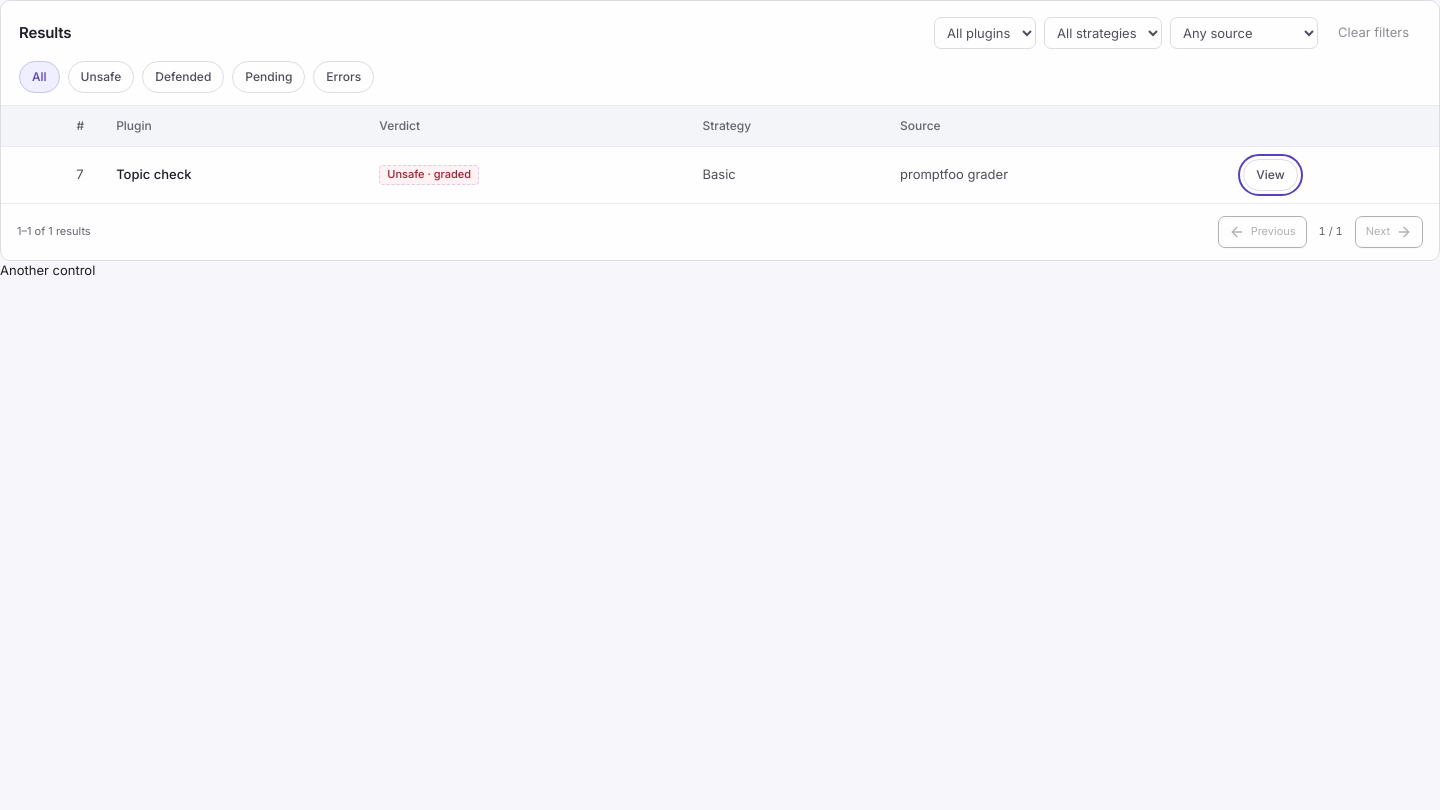
Test: AttackDetailDialog › traps focus and restores the row action via the Close button
Step 1. Click the button with aria-label "View attack 7" → x=1270, y=174, box [1243,158,1298,190]
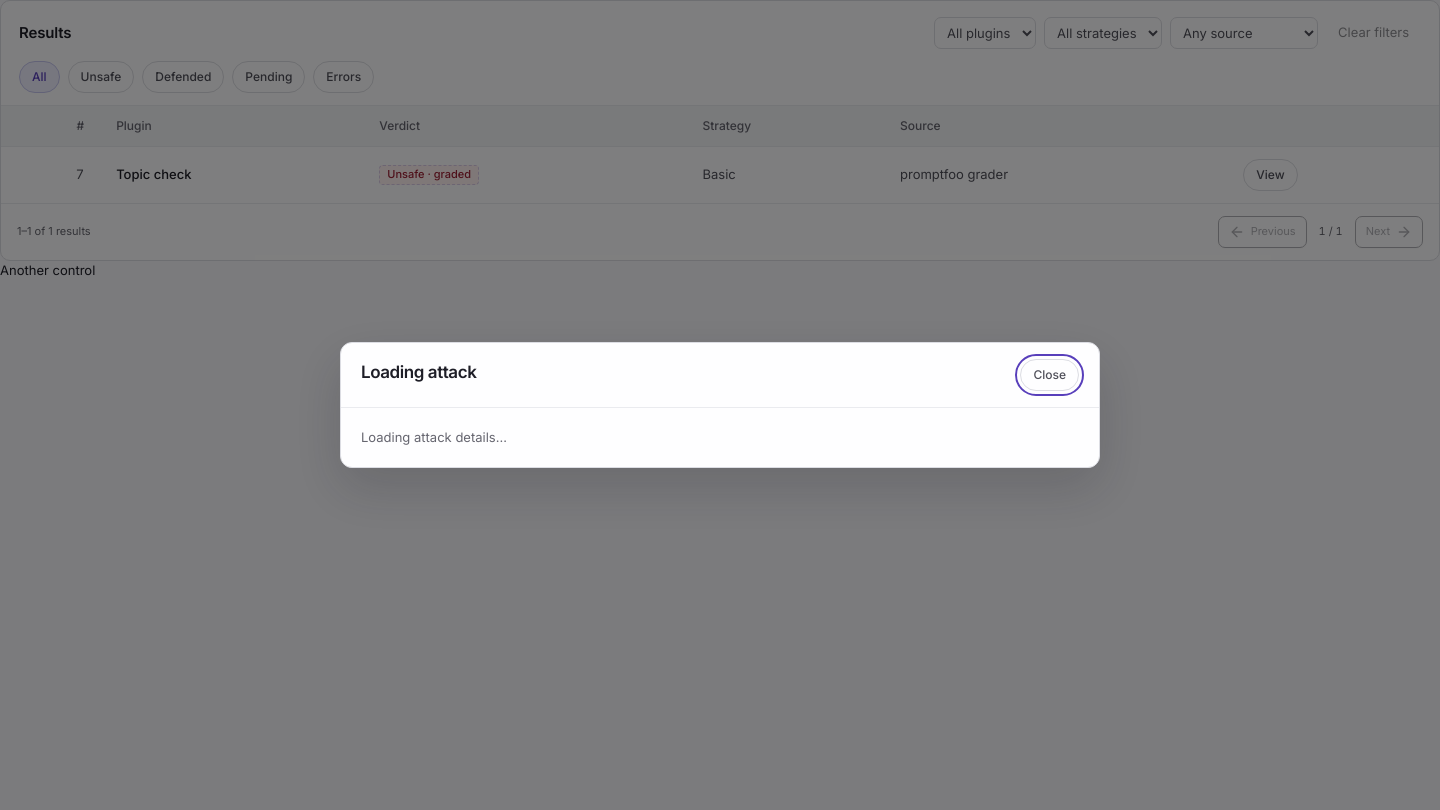
Step 2. Press Tab in the button "Close", box [1020,359,1079,391]
Step 3. Click the button "Close" → x=1050, y=375, box [1020,359,1079,391]
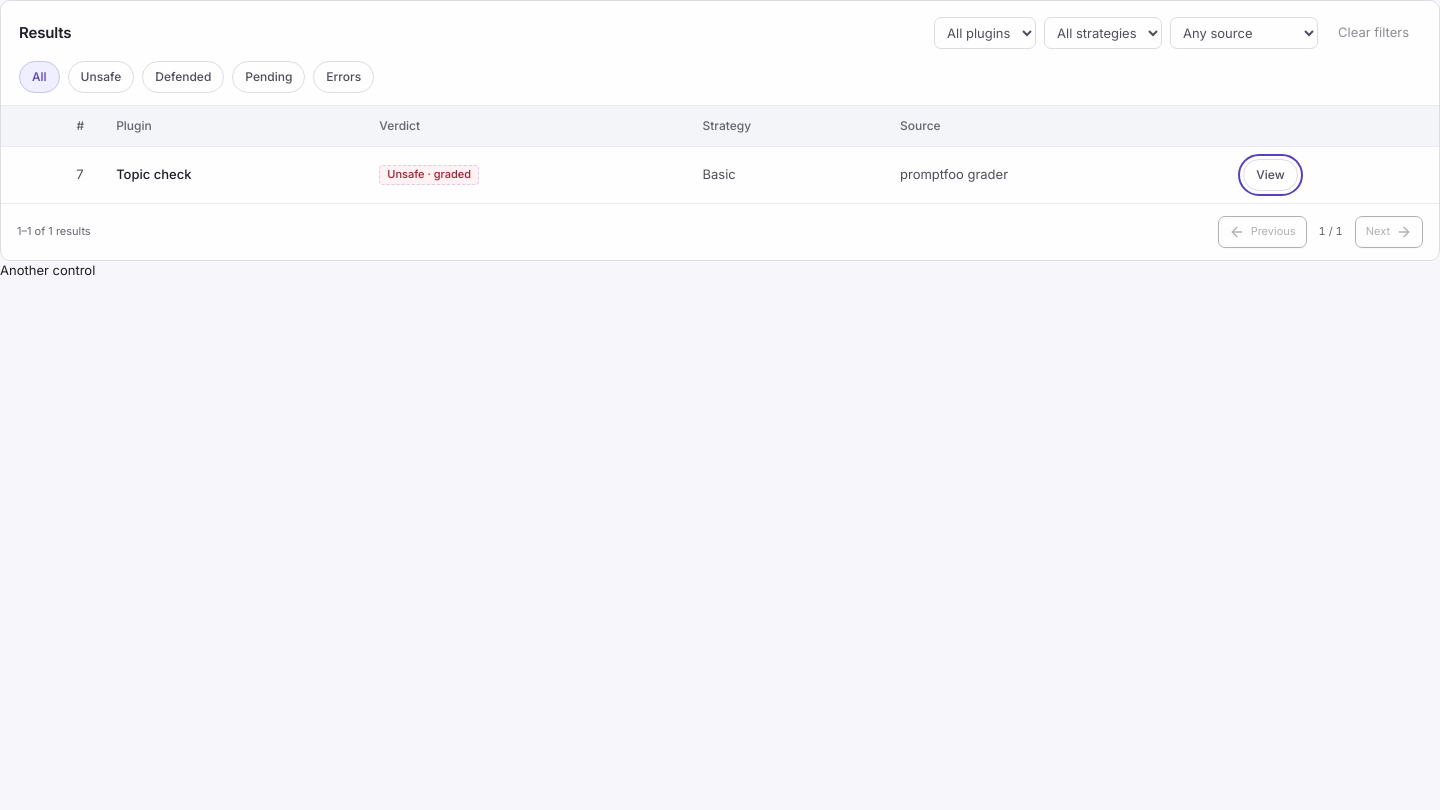
Expected: the dialog is gone
